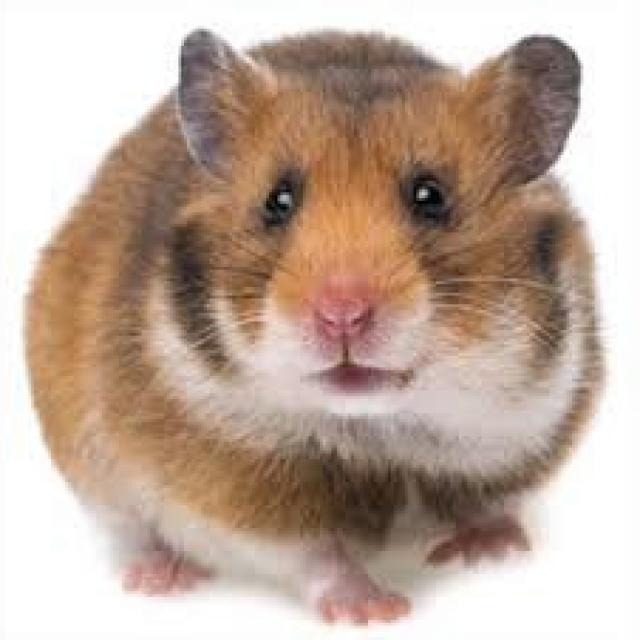hamster: (28, 29, 603, 620)
